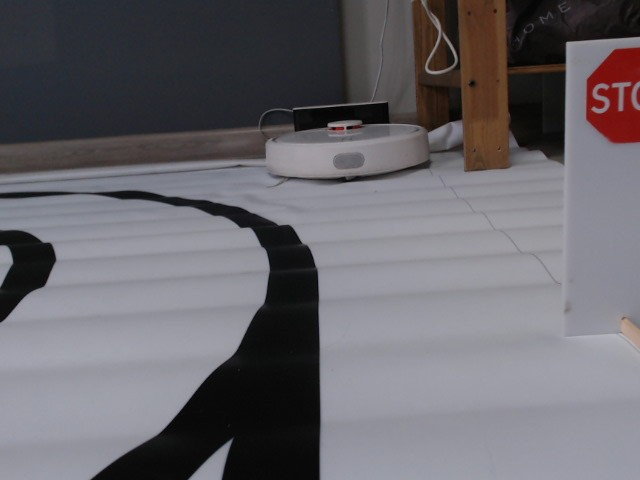Stop: (586, 46, 640, 147)
